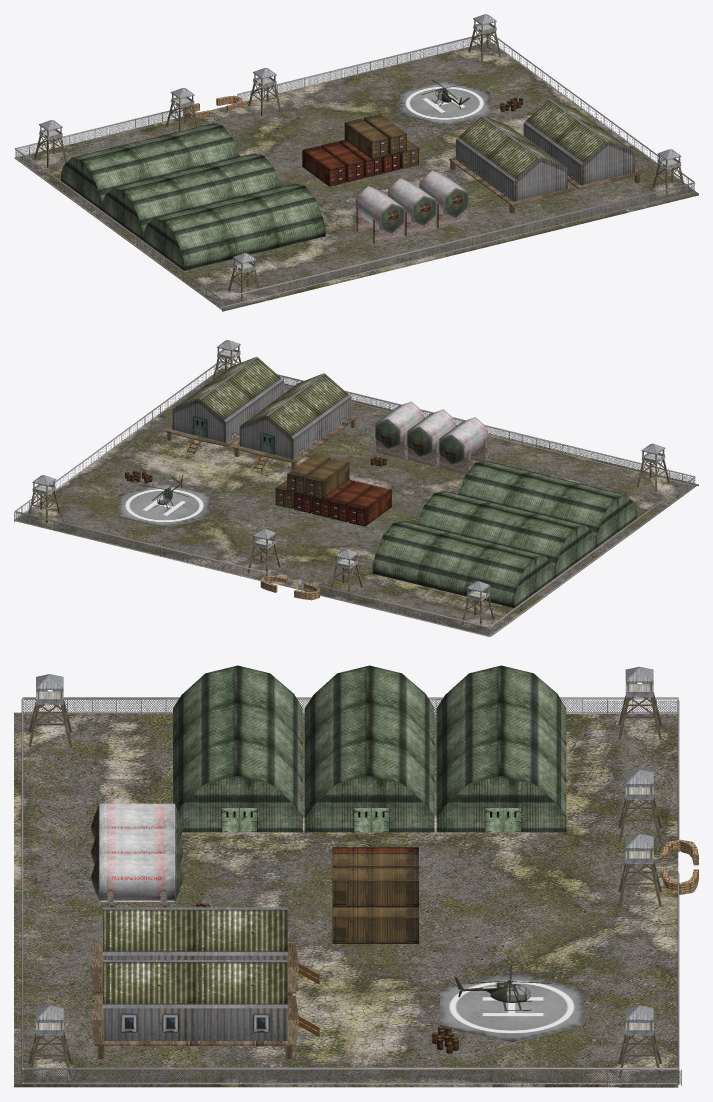
3 views of the same model, one above another, from view 1: azimuth 30°, elevation 25°; view 2: azimuth 150°, elevation 25°; view 3: azimuth 270°, elevation 25° (orthographic). The views are drawn at different scales.
Parts seen in each view (by area): view 1: ground, hangar_005, hangar_007, hangar_006, Box014, Box031, Cylinder161, heliport_01, Cylinder162, Cylinder165, Cylinder114, Cylinder164 (+14 smaller); view 2: ground, hangar_007, hangar_005, hangar_006, Box014, Box031, heliport_01, Cylinder161, Cylinder162, Cylinder165, Cylinder163, Cylinder164 (+14 smaller); view 3: ground, hangar_006, hangar_007, hangar_005, Box031, Box014, Cylinder159, heliport_01, Cylinder114, Cylinder160, containe004, containe003 (+11 smaller).
Part boxes in pixels (x1,y1,x2,y2): ground: (14, 42, 698, 311); hangar_005: (143, 183, 325, 270); hangar_007: (61, 123, 240, 210); hangar_006: (102, 153, 281, 240); Box014: (449, 116, 574, 213); Box031: (523, 99, 641, 189); Cylinder161: (220, 182, 695, 307); heliport_01: (400, 81, 489, 125); Cylinder162: (237, 32, 490, 102); Cylinder165: (356, 186, 404, 244); Cylinder114: (419, 170, 468, 228); Cylinder164: (388, 178, 436, 236); ground: (14, 368, 698, 636); hangar_007: (372, 521, 554, 607); hangar_005: (458, 460, 637, 547); hangar_006: (416, 490, 595, 577); Box014: (232, 373, 358, 470); Box031: (165, 356, 283, 454); heliport_01: (119, 483, 209, 527); Cylinder161: (220, 361, 695, 485); Cylinder162: (14, 511, 267, 581); Cylinder165: (439, 417, 487, 474); Cylinder163: (316, 584, 489, 636); Cylinder164: (407, 409, 455, 467); ground: (14, 712, 678, 1087); hangar_006: (304, 665, 434, 832); hangar_007: (436, 665, 566, 832); hangar_005: (173, 665, 302, 832); Box031: (91, 960, 319, 1059); Box014: (91, 907, 319, 995); Cylinder159: (22, 1067, 681, 1085); heliport_01: (440, 972, 584, 1043); Cylinder114: (90, 853, 183, 907); Cylinder160: (22, 697, 678, 713); containe004: (332, 867, 418, 907); containe003: (332, 907, 418, 943).
Size of the model in its own units: 121 by 12.09 by 94.24.
